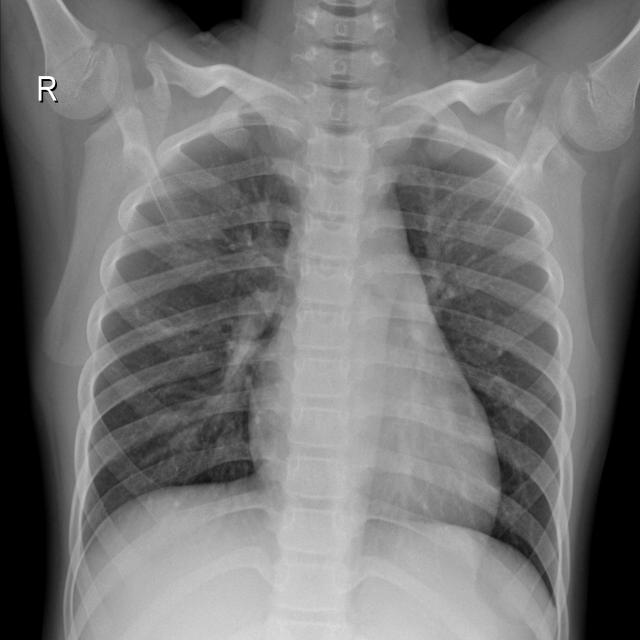no-pneumonia: (74, 113, 303, 545), (397, 127, 576, 635)
